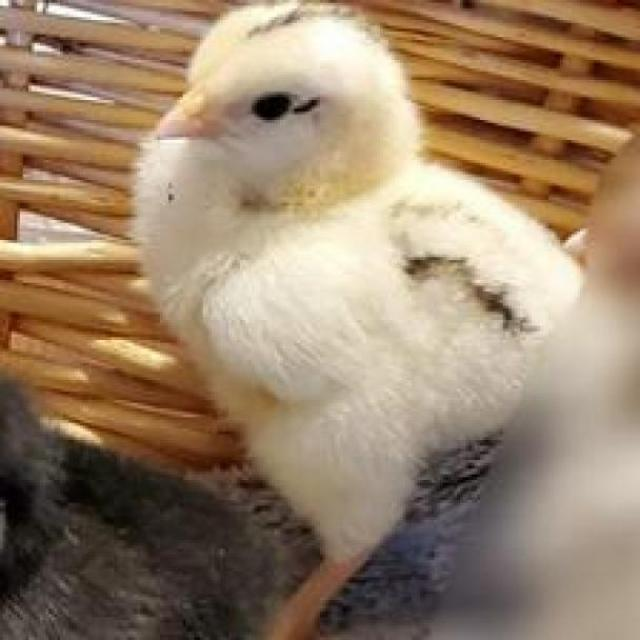Chicken: (129, 2, 571, 634)
